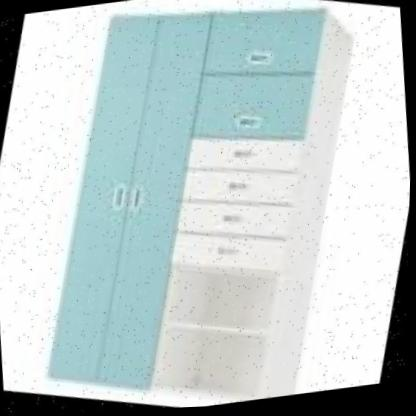Closet: (4, 0, 402, 416)
